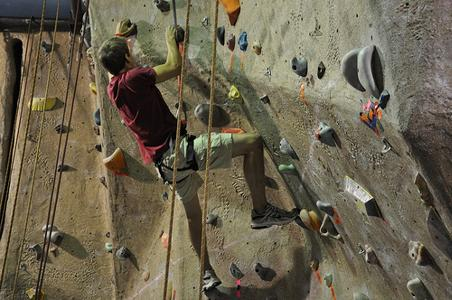person: (100, 25, 302, 295)
